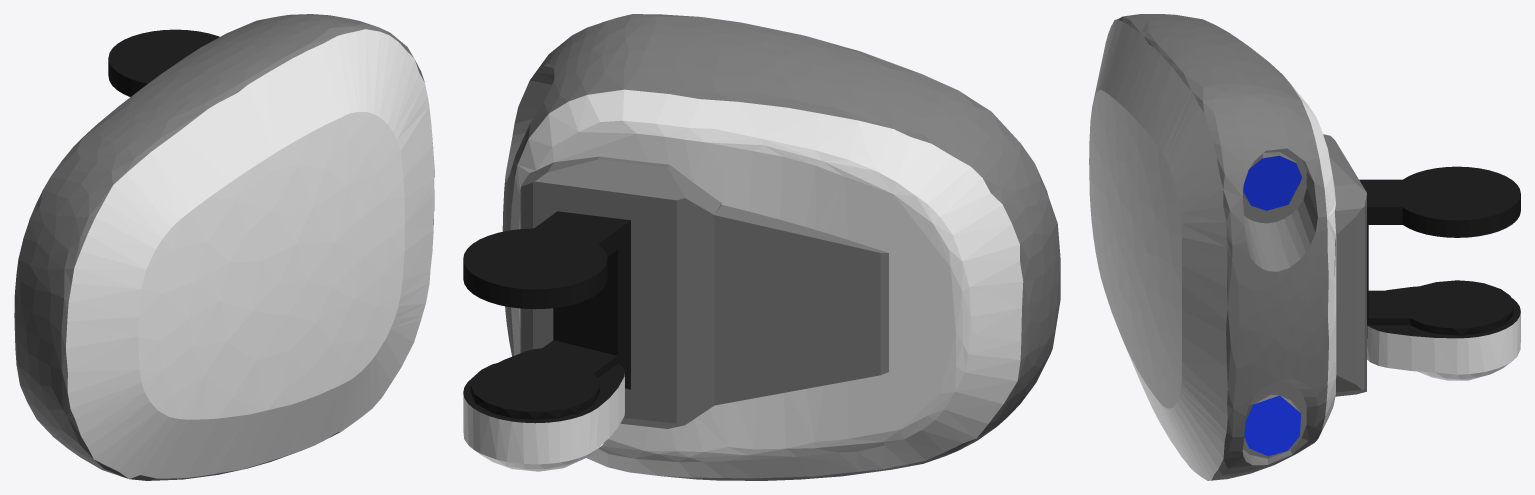
Rendered from HEAD_JOINT1_Link_mesh.obj.
The picture shows the model from 3 angles, left to right: view 1: azimuth 30°, elevation 25°; view 2: azimuth 150°, elevation 25°; view 3: azimuth 270°, elevation 25°; orthographic projection. The views are drawn at different scales.
Visible parts, largest first — view 1: shape1-lib, shape7-lib, shape3-lib; view 2: shape0-lib, shape4-lib, shape7-lib, shape3-lib, shape2-lib; view 3: shape1-lib, shape7-lib, shape3-lib, shape4-lib, shape2-lib, shape0-lib, shape6-lib, shape5-lib.
Boxes of the visible parts, x1,y1,x2,y2 form: shape1-lib: (66, 29, 434, 478); shape7-lib: (14, 14, 434, 480); shape3-lib: (108, 29, 219, 96); shape0-lib: (510, 89, 1023, 478); shape4-lib: (520, 156, 888, 428); shape7-lib: (502, 14, 1060, 480); shape3-lib: (463, 211, 630, 423); shape2-lib: (463, 374, 624, 471); shape1-lib: (1089, 19, 1227, 480); shape7-lib: (1115, 14, 1328, 480); shape3-lib: (1359, 166, 1520, 338); shape4-lib: (1323, 134, 1366, 396); shape2-lib: (1367, 312, 1520, 380); shape0-lib: (1291, 85, 1336, 434); shape6-lib: (1244, 395, 1301, 456); shape5-lib: (1243, 155, 1302, 210).
Bounding box in the file's own units: 0.2554 × 0.2199 × 0.2239.
